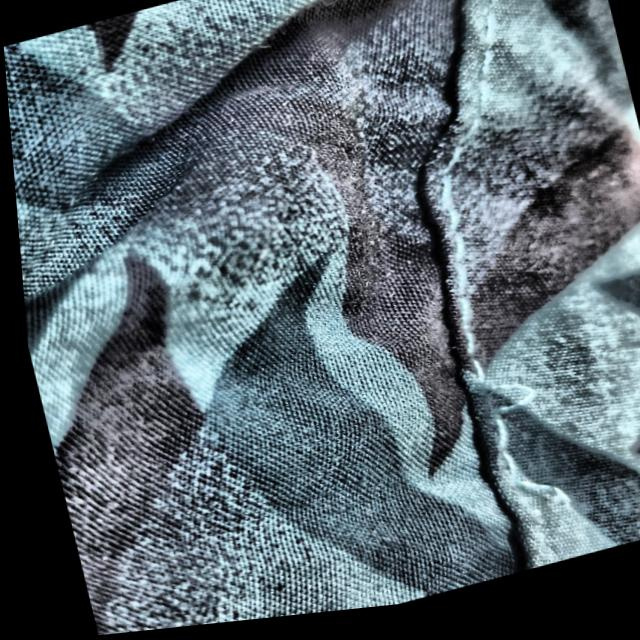Stitch: (429, 346, 604, 592)
